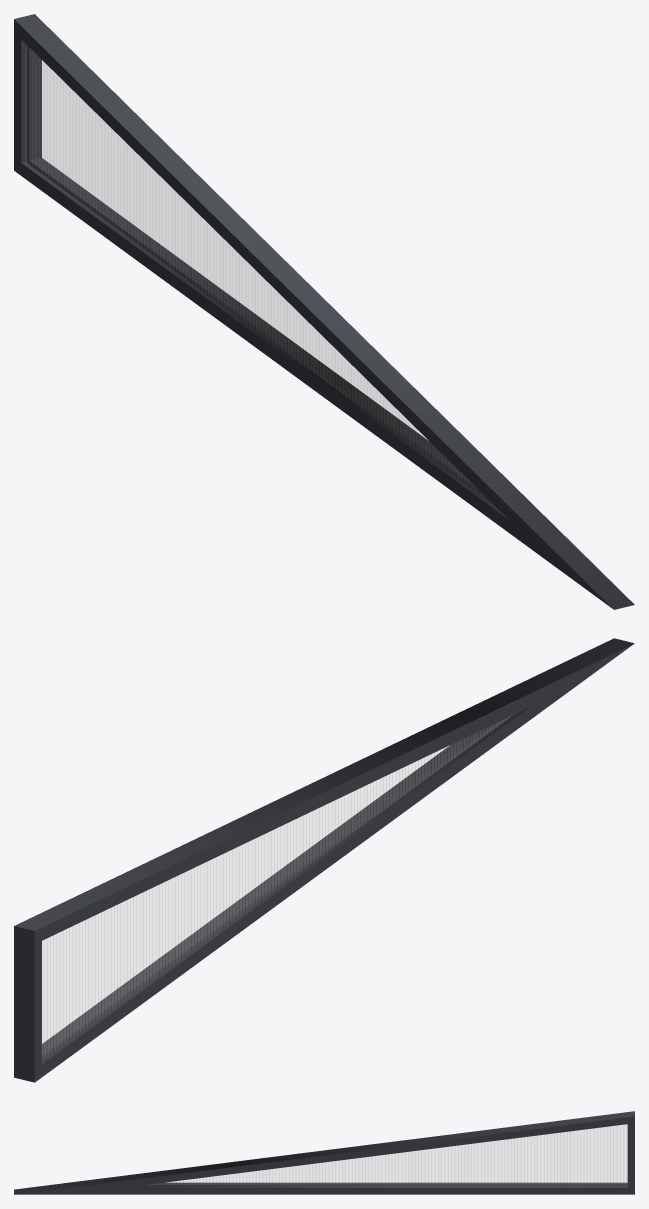
Rendered from nebbiolo_side_gable_left_poly_opaque_400_250.glb.
3 renders of one model, top to bottom at view 1: azimuth 30°, elevation 25°; view 2: azimuth 150°, elevation 25°; view 3: azimuth 270°, elevation 25°, orthographic. The views are drawn at different scales.
Visible parts, largest first — view 1: side_gable_left_poly_opaque_400_250; view 2: side_gable_left_poly_opaque_400_250; view 3: side_gable_left_poly_opaque_400_250.
Boxes of the visible parts, x1=… form: side_gable_left_poly_opaque_400_250: x1=14, y1=14, x2=634, y2=609; side_gable_left_poly_opaque_400_250: x1=14, y1=638, x2=634, y2=1082; side_gable_left_poly_opaque_400_250: x1=14, y1=1111, x2=634, y2=1194.
Bounding box in the file's own units: 0.05 × 0.3484 × 2.5.
Materials: 2 (2 with a texture image).
